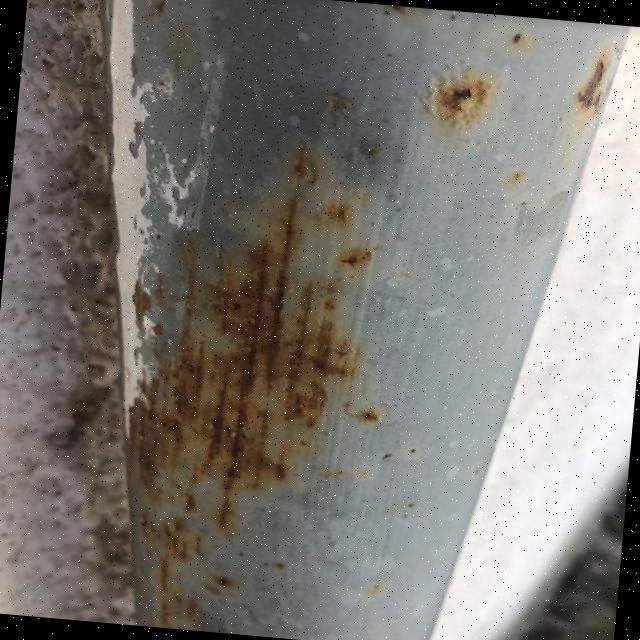Corrosion: (47, 0, 627, 640), (99, 123, 396, 640)
